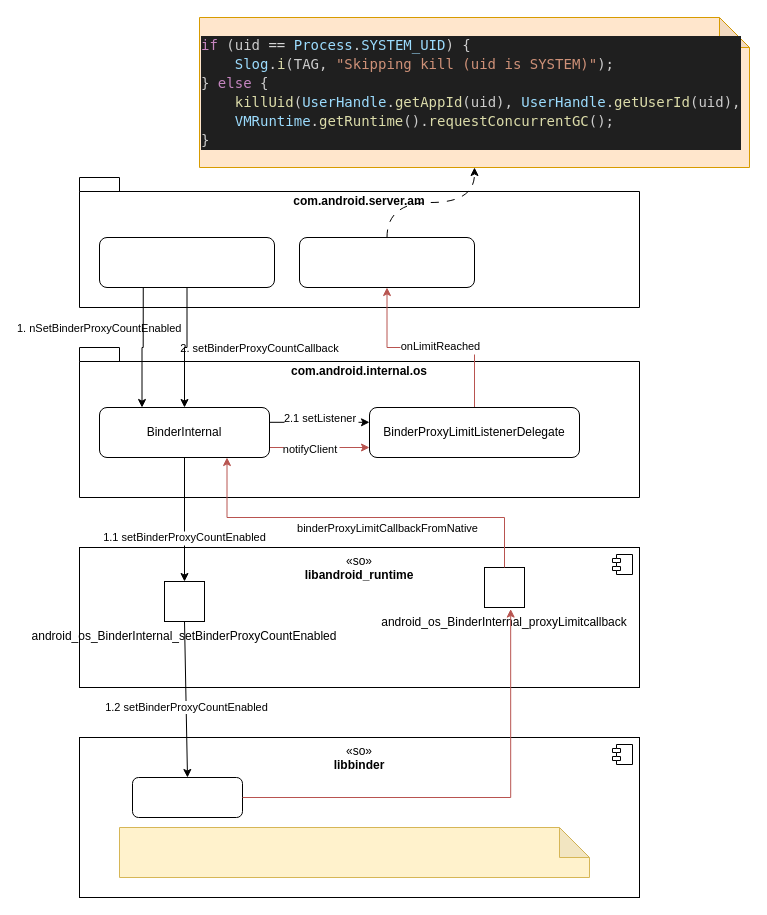
This 767x915 diagram has some shape labels left out. Each missing label, with the centre of its shape:
ActivityManagerService: point (186, 262)
BinderProxyLimitListener: point (386, 262)
Bpbinder: point (187, 797)
BpBinder::create 在创建 Binder 代理对象的同时，通过计数和节流来防止单个应用占用过多资源，从而保护了系统的稳定性和安全性: point (354, 852)
